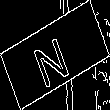N_NW: (33, 24, 77, 86)
